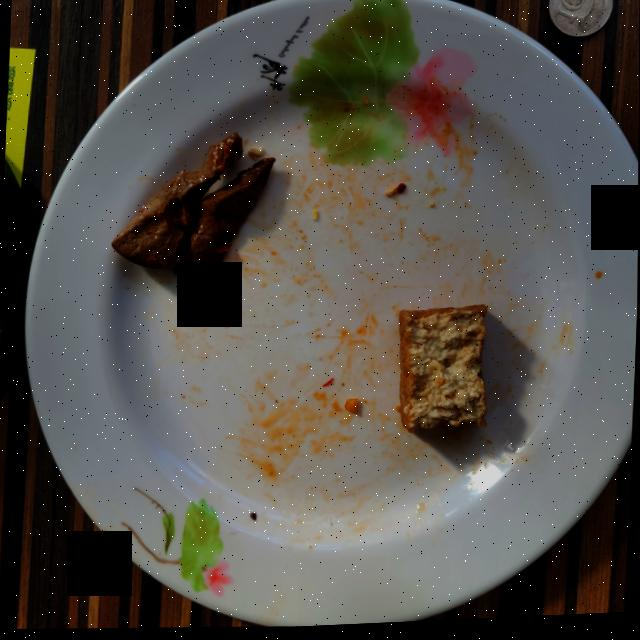coin: (549, 0, 613, 40)
creamy tofu: (5, 46, 36, 184)
egg tofu: (398, 308, 487, 436)
pig liver: (112, 134, 274, 274)
